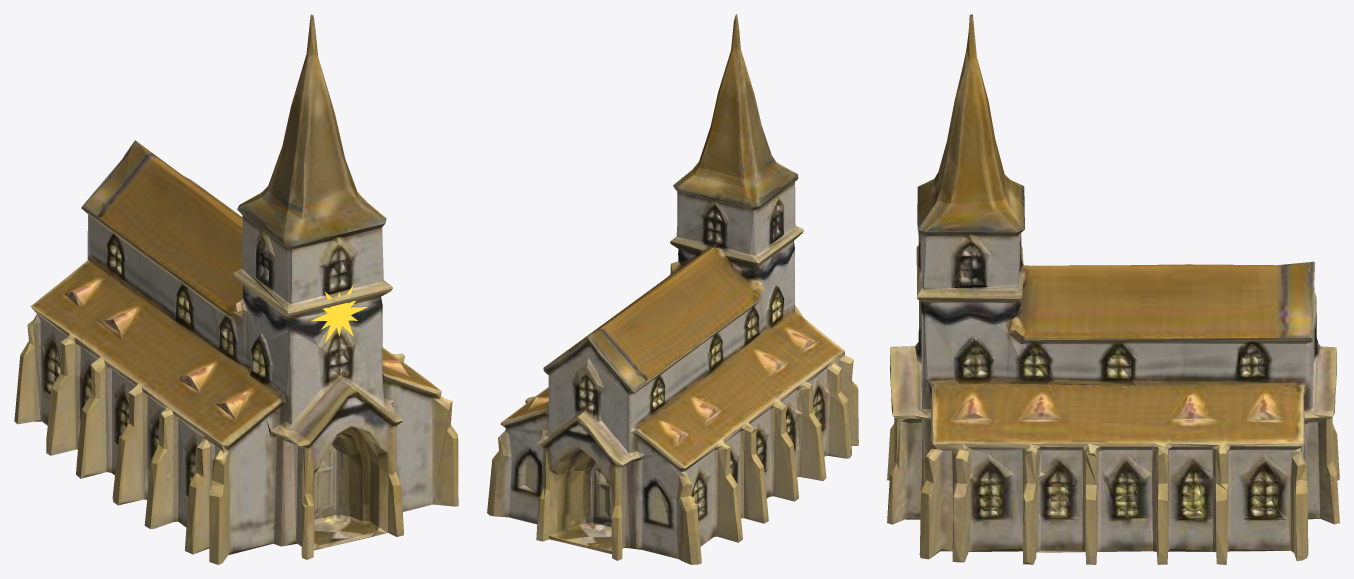
File: chapel_dawn_throne_lod1.glb
3 views of the same model, side by side, from view 1: azimuth 30°, elevation 25°; view 2: azimuth 150°, elevation 25°; view 3: azimuth 270°, elevation 25° (orthographic). The views are drawn at different scales.
Parts seen in each view (by area): view 1: ChapelDawnThrone, SunEmblem; view 2: ChapelDawnThrone; view 3: ChapelDawnThrone.
Boxes of the visible parts, x1,y1,x2,y2 form: ChapelDawnThrone: [14, 14, 458, 564]; SunEmblem: [310, 284, 367, 343]; ChapelDawnThrone: [487, 14, 858, 564]; ChapelDawnThrone: [887, 14, 1339, 564].
Size of the model in its own units: 7.88 by 13.95 by 11.72.
Materials: 2 (1 with a texture image).
